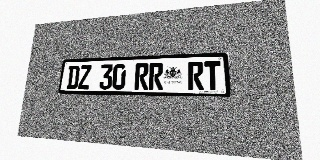0: (112, 64, 126, 89)
3: (99, 64, 113, 89)
D: (66, 65, 80, 89)
R: (188, 61, 204, 90), (134, 63, 149, 90), (149, 63, 163, 90)
T: (204, 61, 221, 90)
Z: (78, 65, 92, 89)
